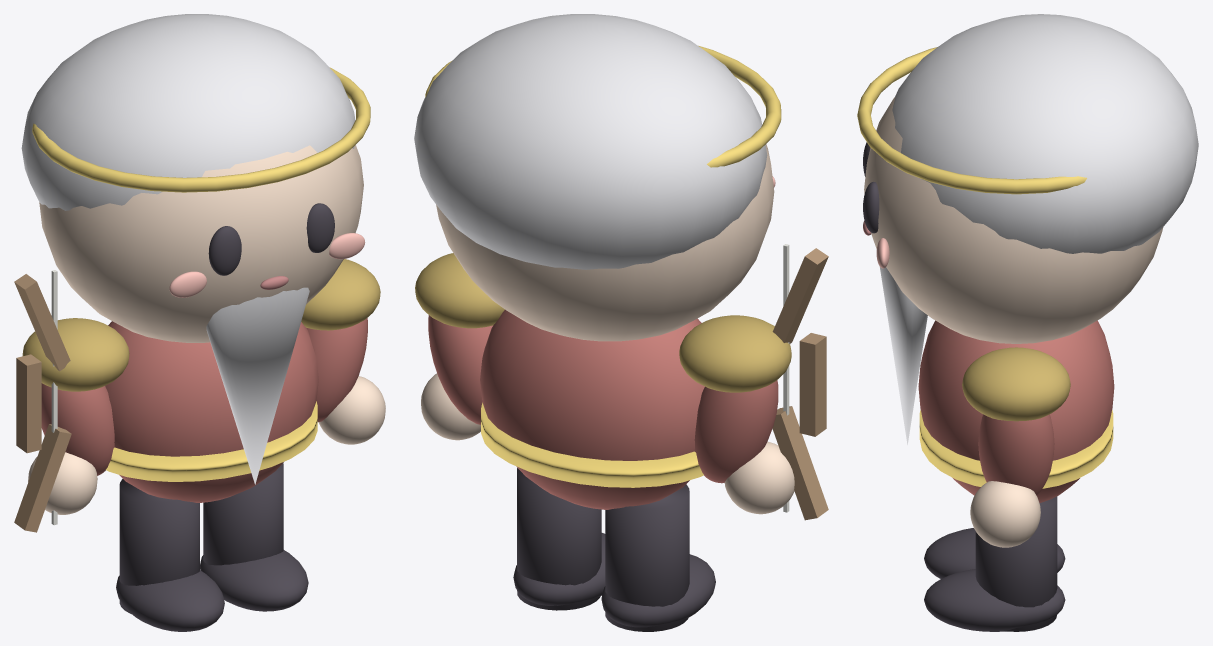
The model's file is huangzhong.fbx.
3 renders of one model, left to right at view 1: azimuth 30°, elevation 25°; view 2: azimuth 150°, elevation 25°; view 3: azimuth 270°, elevation 25°, orthographic. The views are drawn at different scales.
Parts seen in each view (by area): view 1: hair, head_mesh, body, beard, leg, band, leg.001, belt, pauldron.001, shoe, shoe.001, arm_mesh.001 (+12 smaller); view 2: hair, body, head_mesh, leg, leg.001, pauldron.001, belt, arm_mesh.001, pauldron, arm_mesh, hand_mesh.001, shoe (+7 smaller); view 3: hair, head_mesh, body, pauldron, leg.001, band, arm_mesh, shoe.001, hand_mesh, beard, belt, shoe (+1 smaller).
Part boxes in pixels (<box>): hair: <box>21,14,355,210</box>; head_mesh: <box>39,145,363,342</box>; body: <box>105,321,318,502</box>; beard: <box>206,287,309,484</box>; leg: <box>119,479,199,614</box>; band: <box>32,67,370,192</box>; leg.001: <box>203,463,283,565</box>; belt: <box>106,401,317,481</box>; pauldron.001: <box>22,318,129,391</box>; shoe: <box>116,570,224,631</box>; shoe.001: <box>200,550,308,611</box>; arm_mesh.001: <box>41,383,114,475</box>; hair: <box>414,14,767,269</box>; body: <box>480,309,704,509</box>; head_mesh: <box>436,144,774,341</box>; leg: <box>605,484,689,631</box>; leg.001: <box>517,468,601,610</box>; pauldron.001: <box>679,315,791,392</box>; belt: <box>481,402,703,487</box>; arm_mesh.001: <box>694,380,778,483</box>; pauldron: <box>415,253,504,328</box>; arm_mesh: <box>428,315,492,424</box>; hand_mesh.001: <box>724,441,794,514</box>; shoe: <box>601,554,715,627</box>; hair: <box>892,14,1198,253</box>; head_mesh: <box>864,97,1163,343</box>; body: <box>918,320,1114,502</box>; pauldron: <box>962,347,1070,421</box>; leg.001: <box>975,496,1057,631</box>; band: <box>857,47,1086,194</box>; arm_mesh: <box>978,414,1054,495</box>; shoe.001: <box>924,569,1065,631</box>; hand_mesh: <box>970,481,1040,547</box>; beard: <box>880,267,927,444</box>; belt: <box>919,410,1113,488</box>; shoe: <box>924,528,1065,578</box>.
Size of the model in its own units: 0.7954 by 1.15 by 0.6276.
